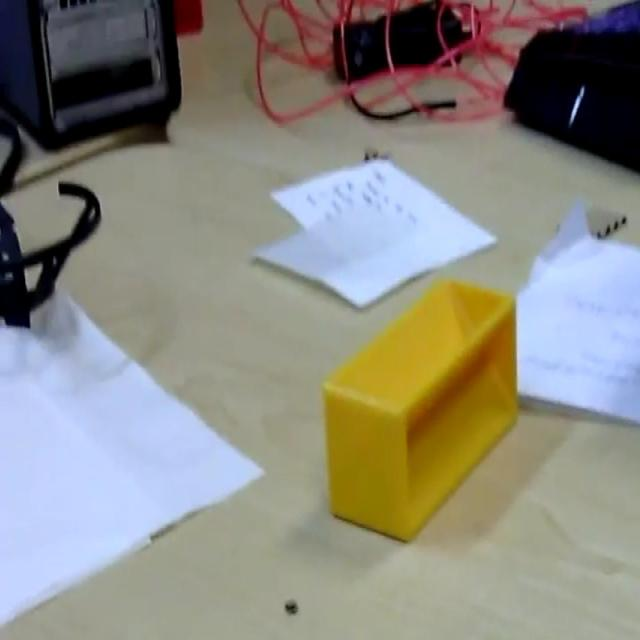yellow_block: (321, 276, 518, 541)
